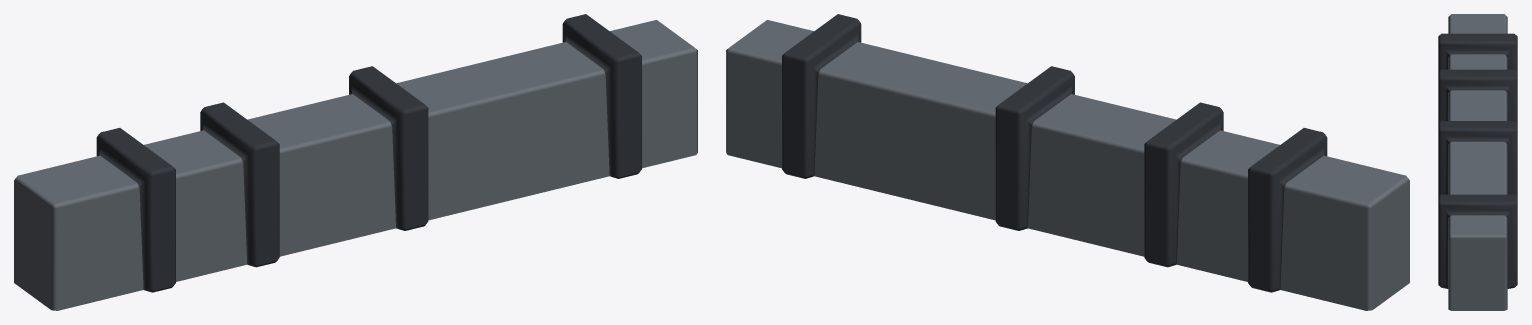
Rendered from fence_2.fbx.
3 views of the same model, side by side, from view 1: azimuth 30°, elevation 25°; view 2: azimuth 150°, elevation 25°; view 3: azimuth 270°, elevation 25° (orthographic). The views are drawn at different scales.
Parts seen in each view (by area): view 1: Cube.005; view 2: Cube.005; view 3: Cube.005.
Boxes of the visible parts, left/top/right/bottom form: Cube.005: left=14, top=14, right=697, bottom=310; Cube.005: left=726, top=14, right=1409, bottom=310; Cube.005: left=1438, top=14, right=1517, bottom=310.
Bounding box in the file's own units: 498 × 90.14 × 75.16.
